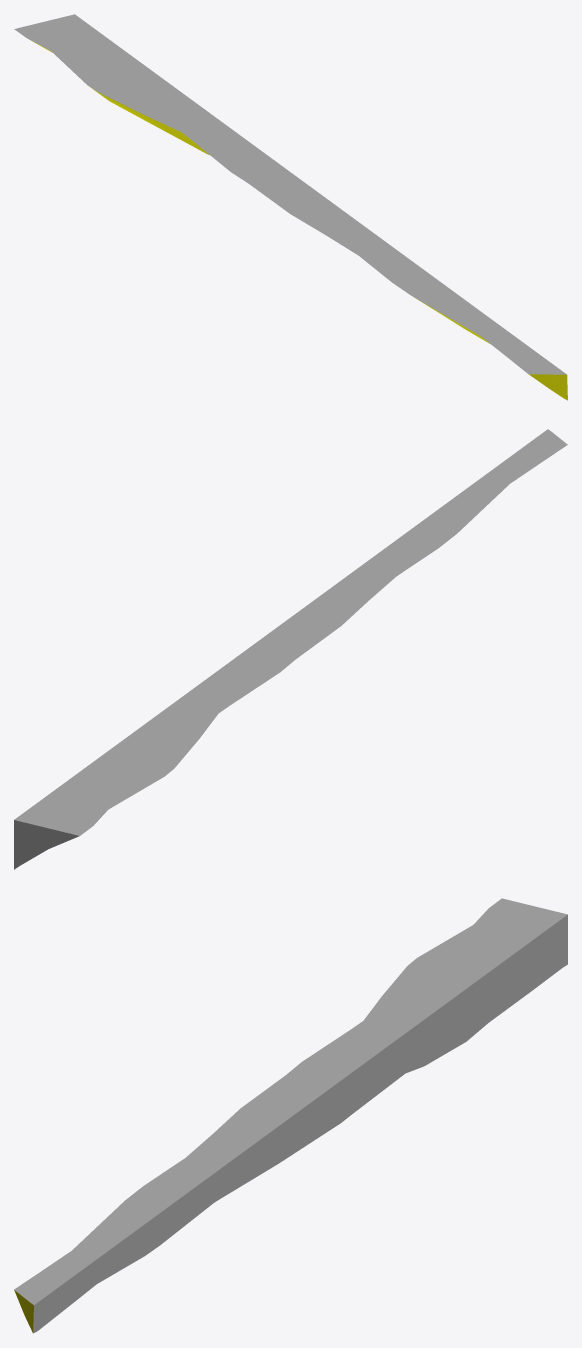
File: F_Shatter_01.fbx
3 views of the same model, one above another, from view 1: azimuth 30°, elevation 25°; view 2: azimuth 150°, elevation 25°; view 3: azimuth 330°, elevation 25° (orthographic). The views are drawn at different scales.
Visible parts, largest first — view 1: shard6; view 2: shard6; view 3: shard6.
Boxes of the visible parts, x1,y1,x2,y2 form: shard6: [14, 14, 567, 400]; shard6: [14, 429, 567, 869]; shard6: [14, 898, 567, 1333].
Bounding box in the file's own units: 0.6529 × 0.4813 × 8.81.
